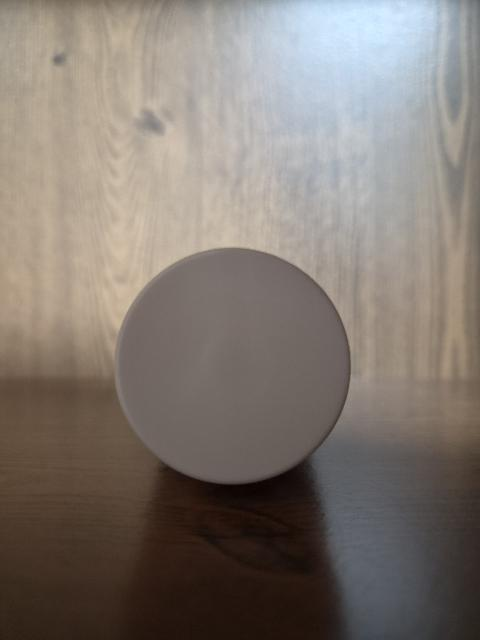handcream: (114, 247, 351, 484)
